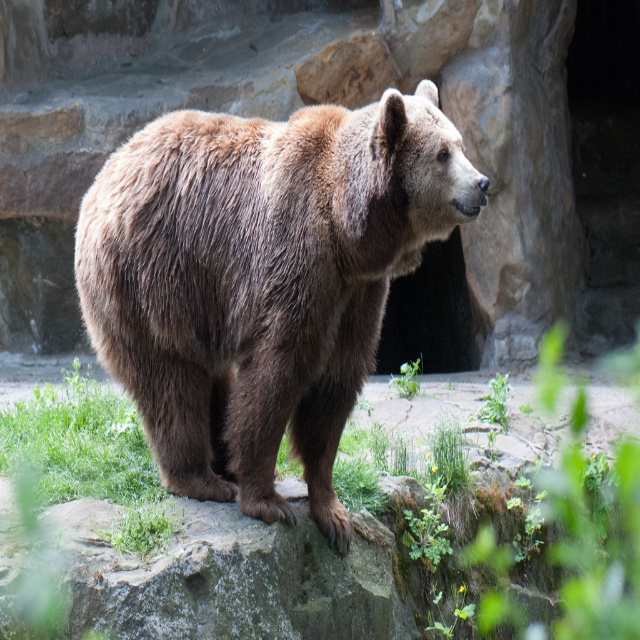Brown bear: (72, 79, 490, 559)
